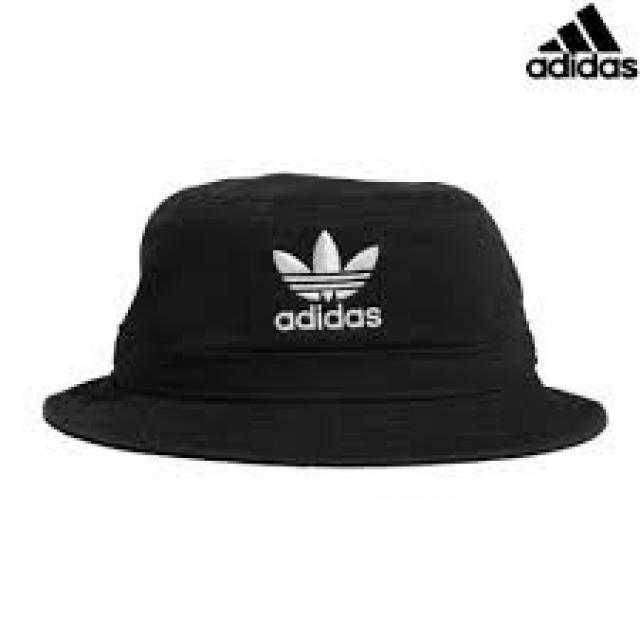Adidas: (262, 219, 393, 307)
